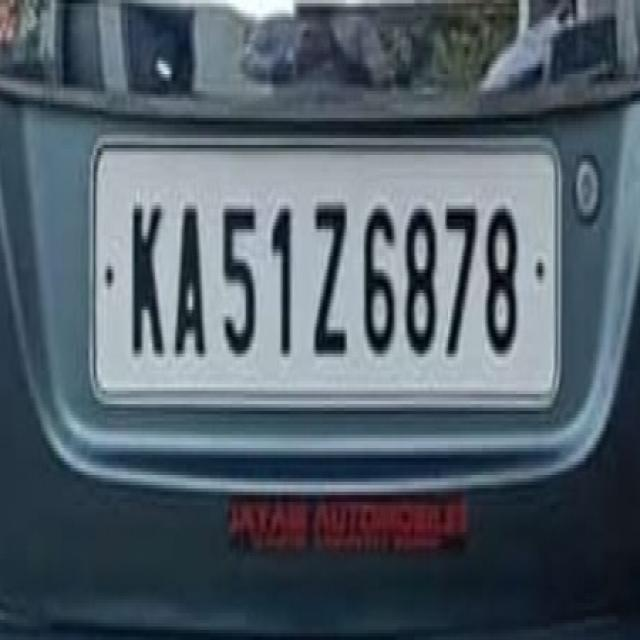1: (267, 196, 299, 364)
5: (218, 190, 260, 367)
6: (358, 184, 399, 366)
7: (442, 192, 479, 368)
8: (487, 200, 523, 374), (404, 200, 439, 354)
A: (172, 192, 208, 364)
K: (128, 192, 166, 364)
Z: (310, 184, 352, 372)
